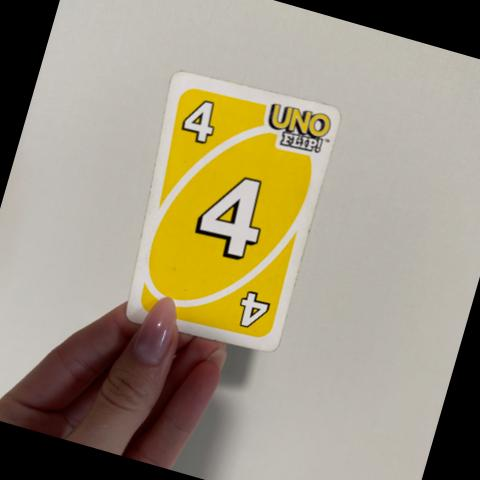8_red: (195, 178, 261, 259), (182, 100, 215, 142), (239, 291, 270, 327)
